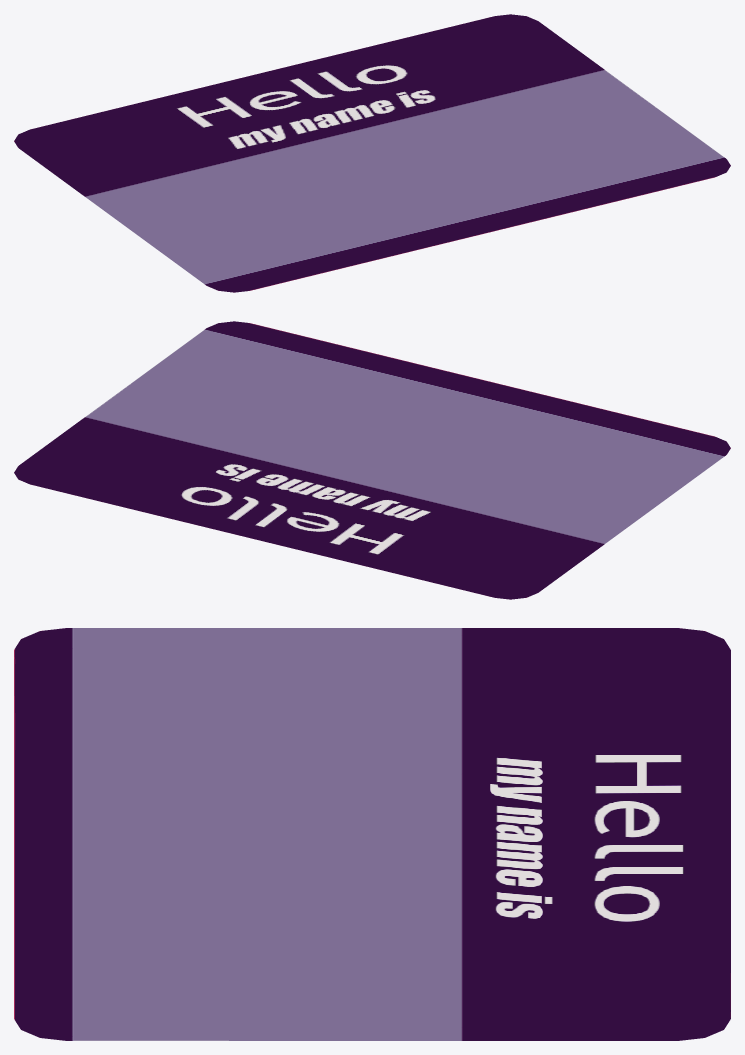
The model's file is NameTag1Blender.glb.
3 renders of one model, top to bottom at view 1: azimuth 30°, elevation 25°; view 2: azimuth 150°, elevation 25°; view 3: azimuth 270°, elevation 25°, orthographic. The views are drawn at different scales.
Visible parts, largest first — view 1: Plane; view 2: Plane; view 3: Plane.
Part boxes in pixels (x1,y1,x2,y2): Plane: (14,14,730,292); Plane: (14,321,730,599); Plane: (14,628,730,1040).
Bounding box in the file's own units: 2.72 × 0 × 2.
1 material, 1 textured.
